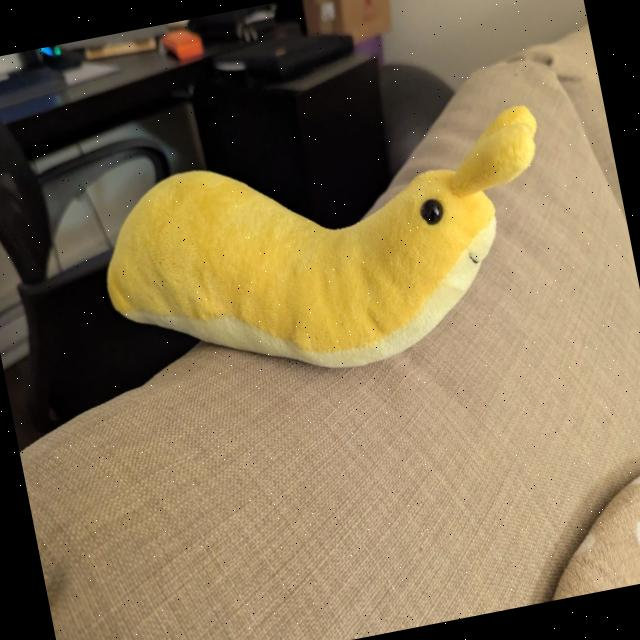banana-slug-toy: (75, 86, 588, 424)
